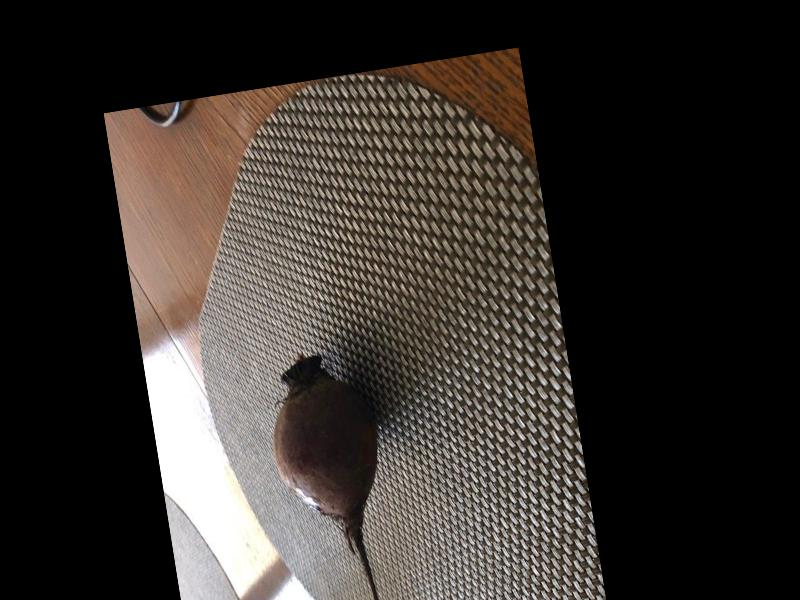Beet: (260, 347, 405, 600)
